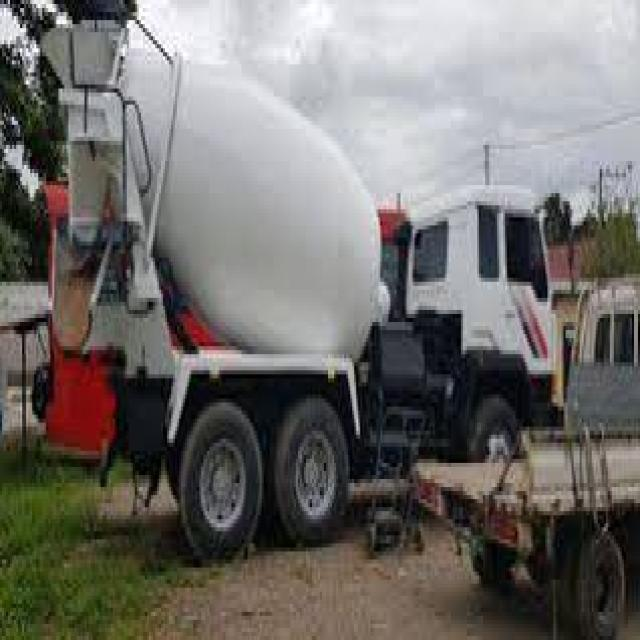Mixer Truck: (38, 21, 559, 558)
